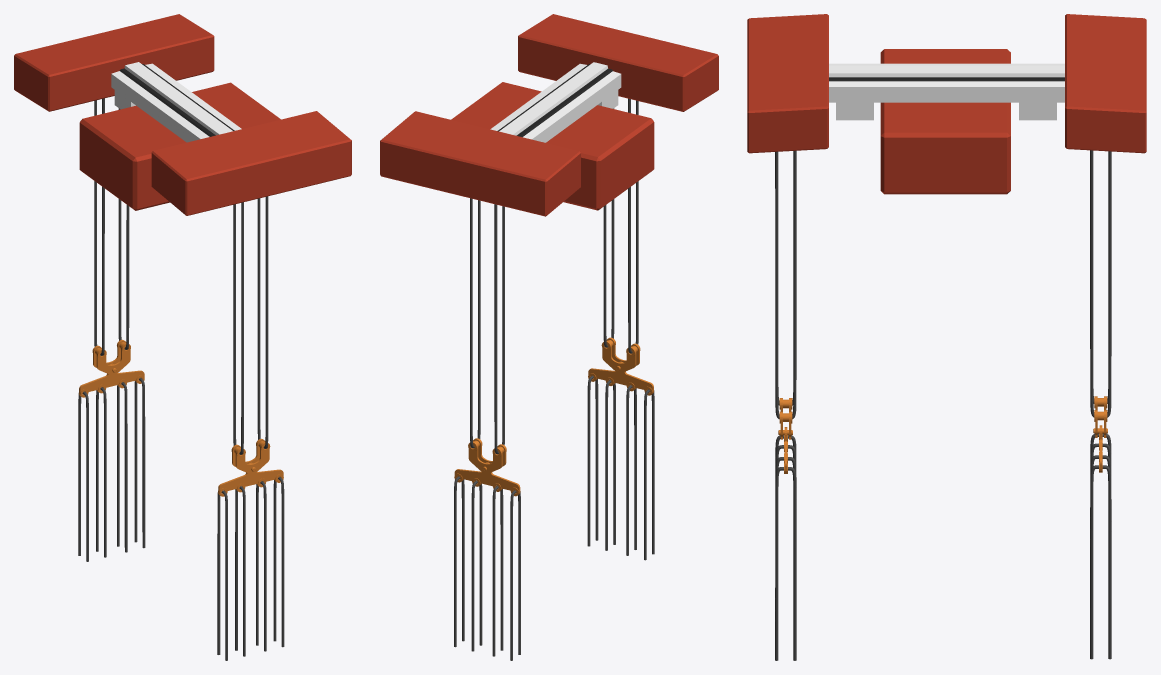
The model's file is goliath_crane_trolley.glb.
3 views of the same model, side by side, from view 1: azimuth 30°, elevation 25°; view 2: azimuth 150°, elevation 25°; view 3: azimuth 270°, elevation 25° (orthographic). The views are drawn at different scales.
Parts seen in each view (by area): view 1: Goliath Crane_Trolley_01, Goliath Crane_Trolley_02; view 2: Goliath Crane_Trolley_01, Goliath Crane_Trolley_02; view 3: Goliath Crane_Trolley_01, Goliath Crane_Trolley_02.
Part boxes in pixels (box(x1,y1,x2,y2)): Goliath Crane_Trolley_01: box(14, 14, 351, 660); Goliath Crane_Trolley_02: box(79, 82, 280, 210); Goliath Crane_Trolley_01: box(380, 14, 718, 660); Goliath Crane_Trolley_02: box(451, 82, 654, 210); Goliath Crane_Trolley_01: box(747, 14, 1146, 660); Goliath Crane_Trolley_02: box(880, 49, 1010, 194).
Size of the model in its own units: 12.27 by 35.61 by 22.03.
